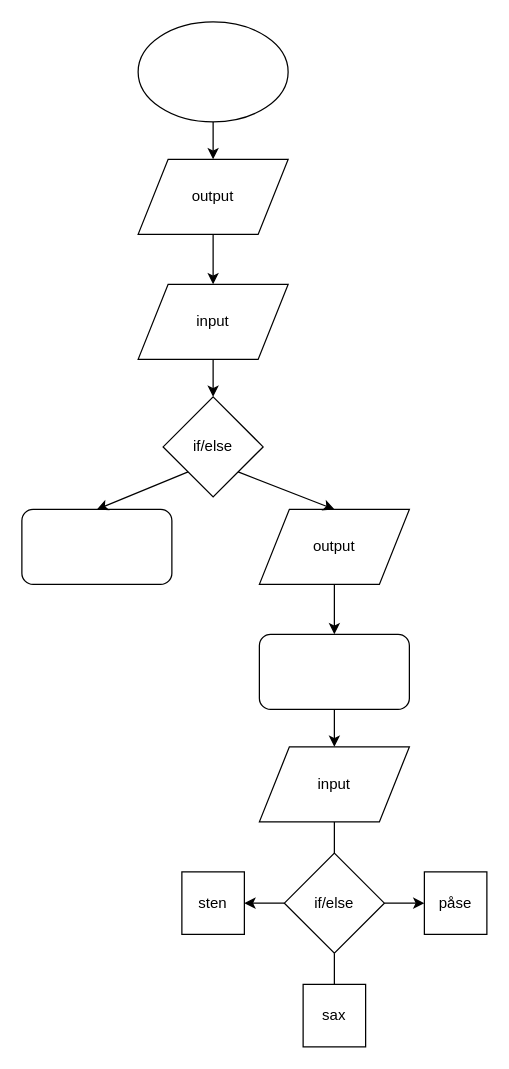
Some shapes in this 509 by 1069 pixel diagram are drawn without their labels. The centre of each missing label's shape, as x and y in pixels:
"exit" goes at [96,546].
"random" goes at [333,671].
"Start" goes at [212,71].
